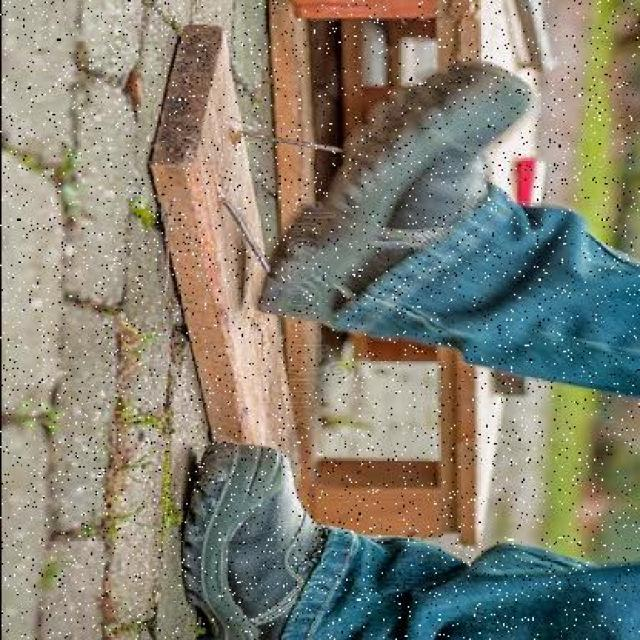shoes: (248, 62, 532, 324), (180, 441, 328, 639)
